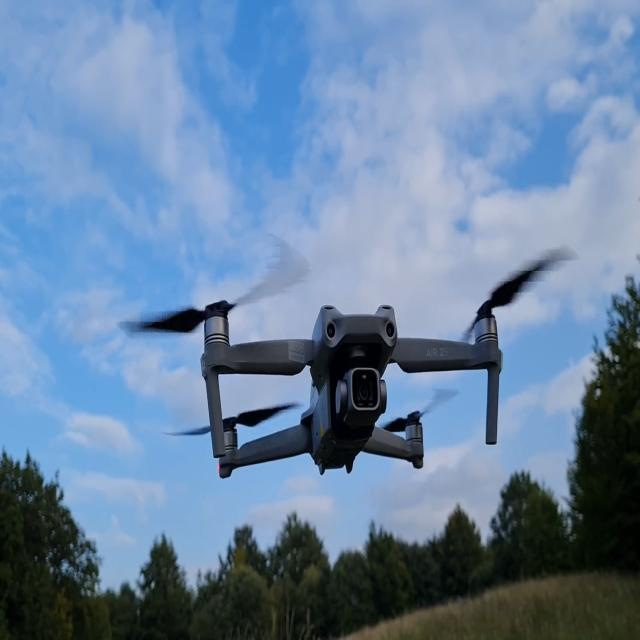drone: (116, 232, 578, 480)
